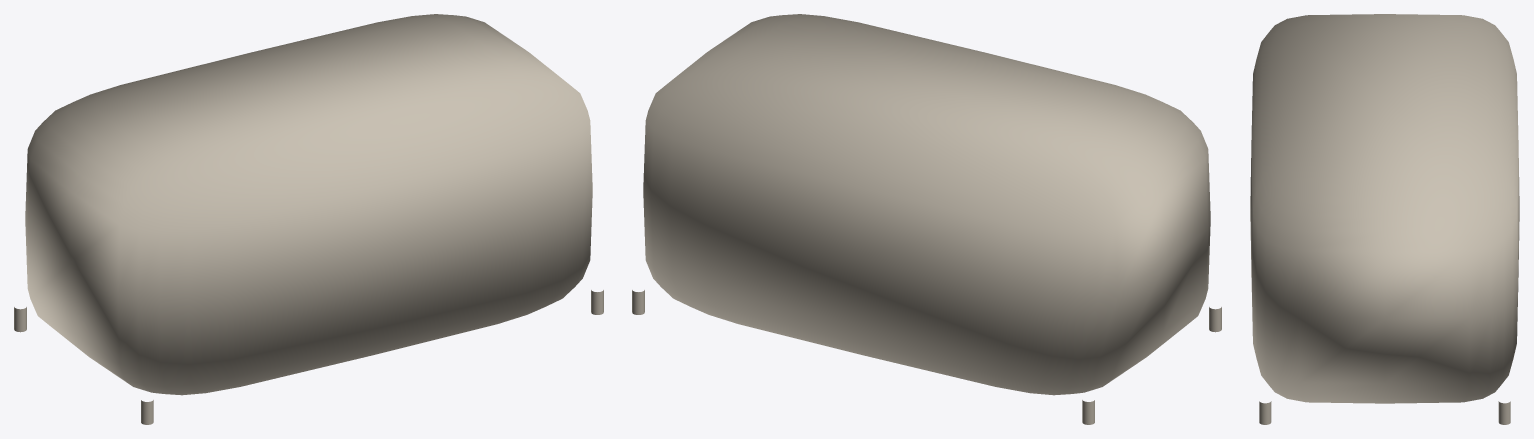
Rendered from ikea-morabo-80485763-g2-proxy.glb.
3 views of the same model, side by side, from view 1: azimuth 30°, elevation 25°; view 2: azimuth 150°, elevation 25°; view 3: azimuth 270°, elevation 25° (orthographic). The views are drawn at different scales.
Visible parts, largest first — view 1: proxy_body; view 2: proxy_body; view 3: proxy_body, leg (×2).
Boxes of the visible parts, left/top/right/bottom form: proxy_body: left=25, top=14, right=592, bottom=395; proxy_body: left=643, top=14, right=1210, bottom=395; proxy_body: left=1250, top=14, right=1519, bottom=403; leg (×2): left=1259, top=401, right=1510, bottom=424.
Size of the model in its own units: 1.74 by 0.81 by 0.9.
